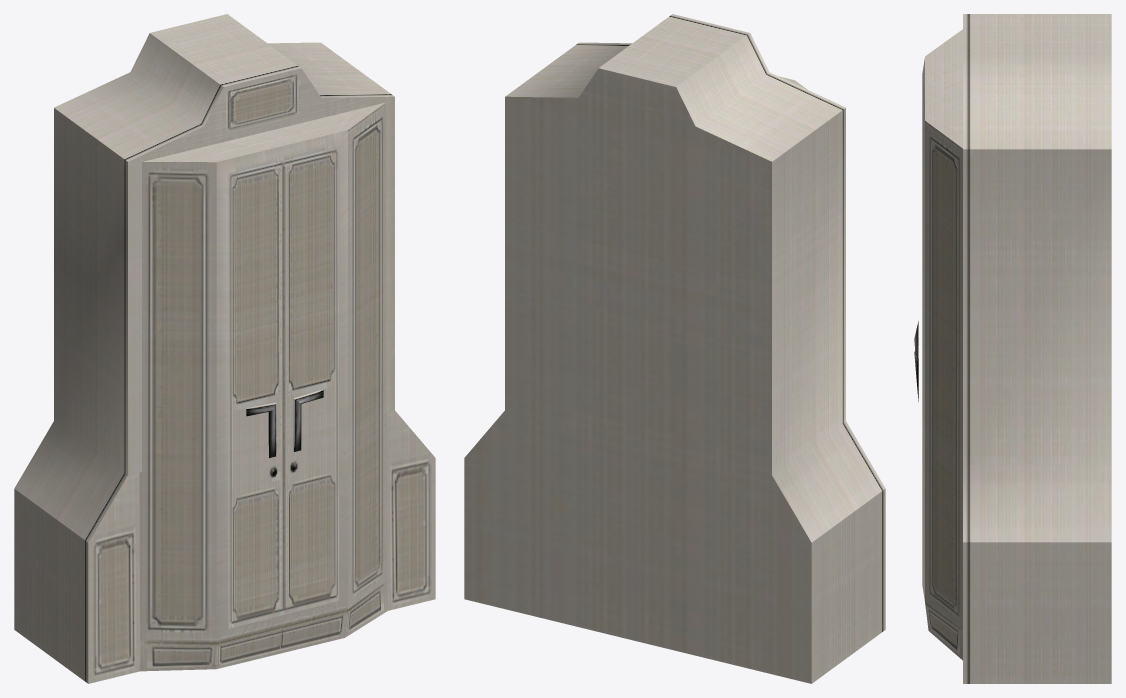
File: frn_all_eleg_armoire_s01_l1.fbx
The picture shows the model from 3 angles, left to right: view 1: azimuth 30°, elevation 25°; view 2: azimuth 150°, elevation 25°; view 3: azimuth 270°, elevation 25°; orthographic projection.
Parts seen in each view (by area): view 1: mesh_node; view 2: mesh_node; view 3: mesh_node.
Part boxes in pixels (x1=…): mesh_node: x1=14, y1=14, x2=435, y2=683; mesh_node: x1=464, y1=14, x2=885, y2=683; mesh_node: x1=914, y1=14, x2=1111, y2=683.
Size of the model in its own units: 1.16 by 1.8 by 0.5692.
